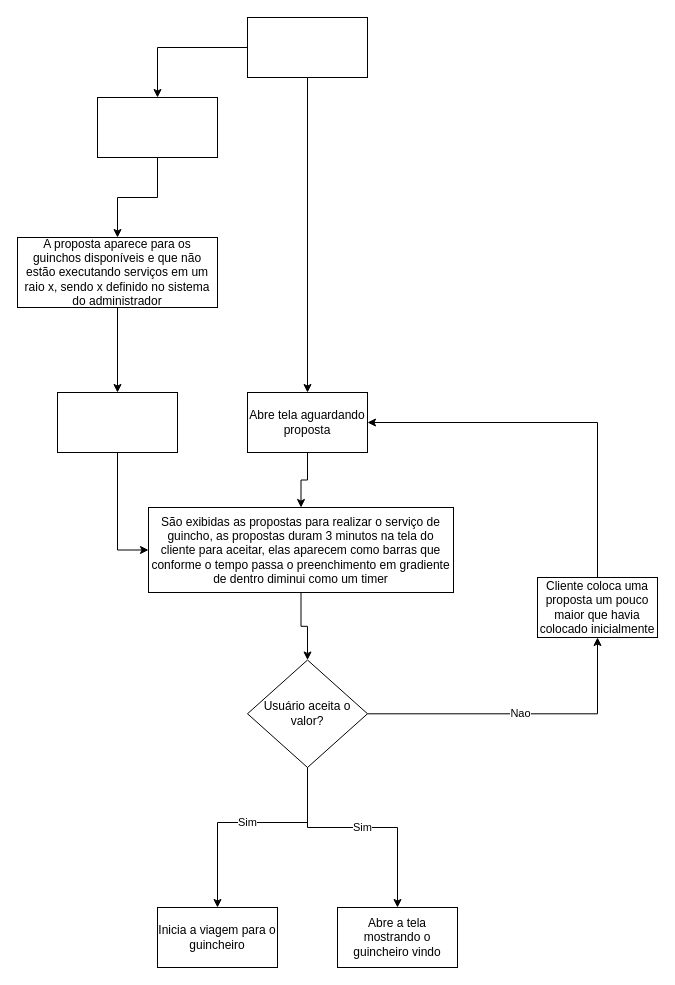
The diagram is 675 pixels wide and 985 high, and some of its shapes have lost their labels. The box of each missing label's shape, as (x1, y1, x2, y2) in pixels:
Cliente coloca origem e destino e confirma viagem: (246, 16, 368, 78)
Os guinchos colocam a proposta de valor para o serviço: (56, 392, 178, 452)
É gerada uma solicitação da viagem no banco de dados: (96, 96, 218, 158)
